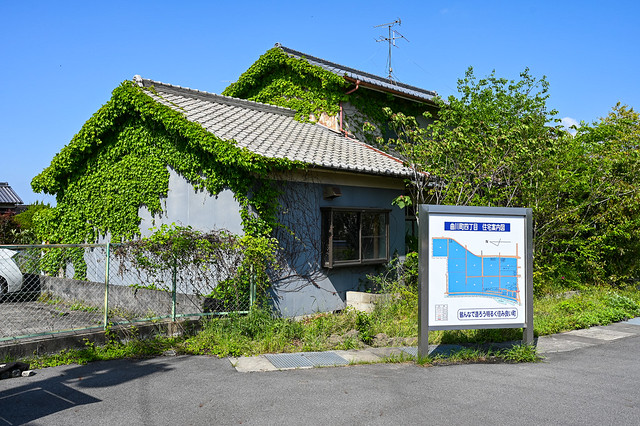medium: (28, 44, 446, 335)
